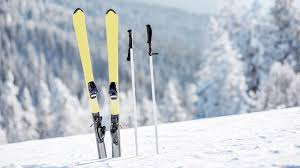skis: (70, 8, 125, 161)
